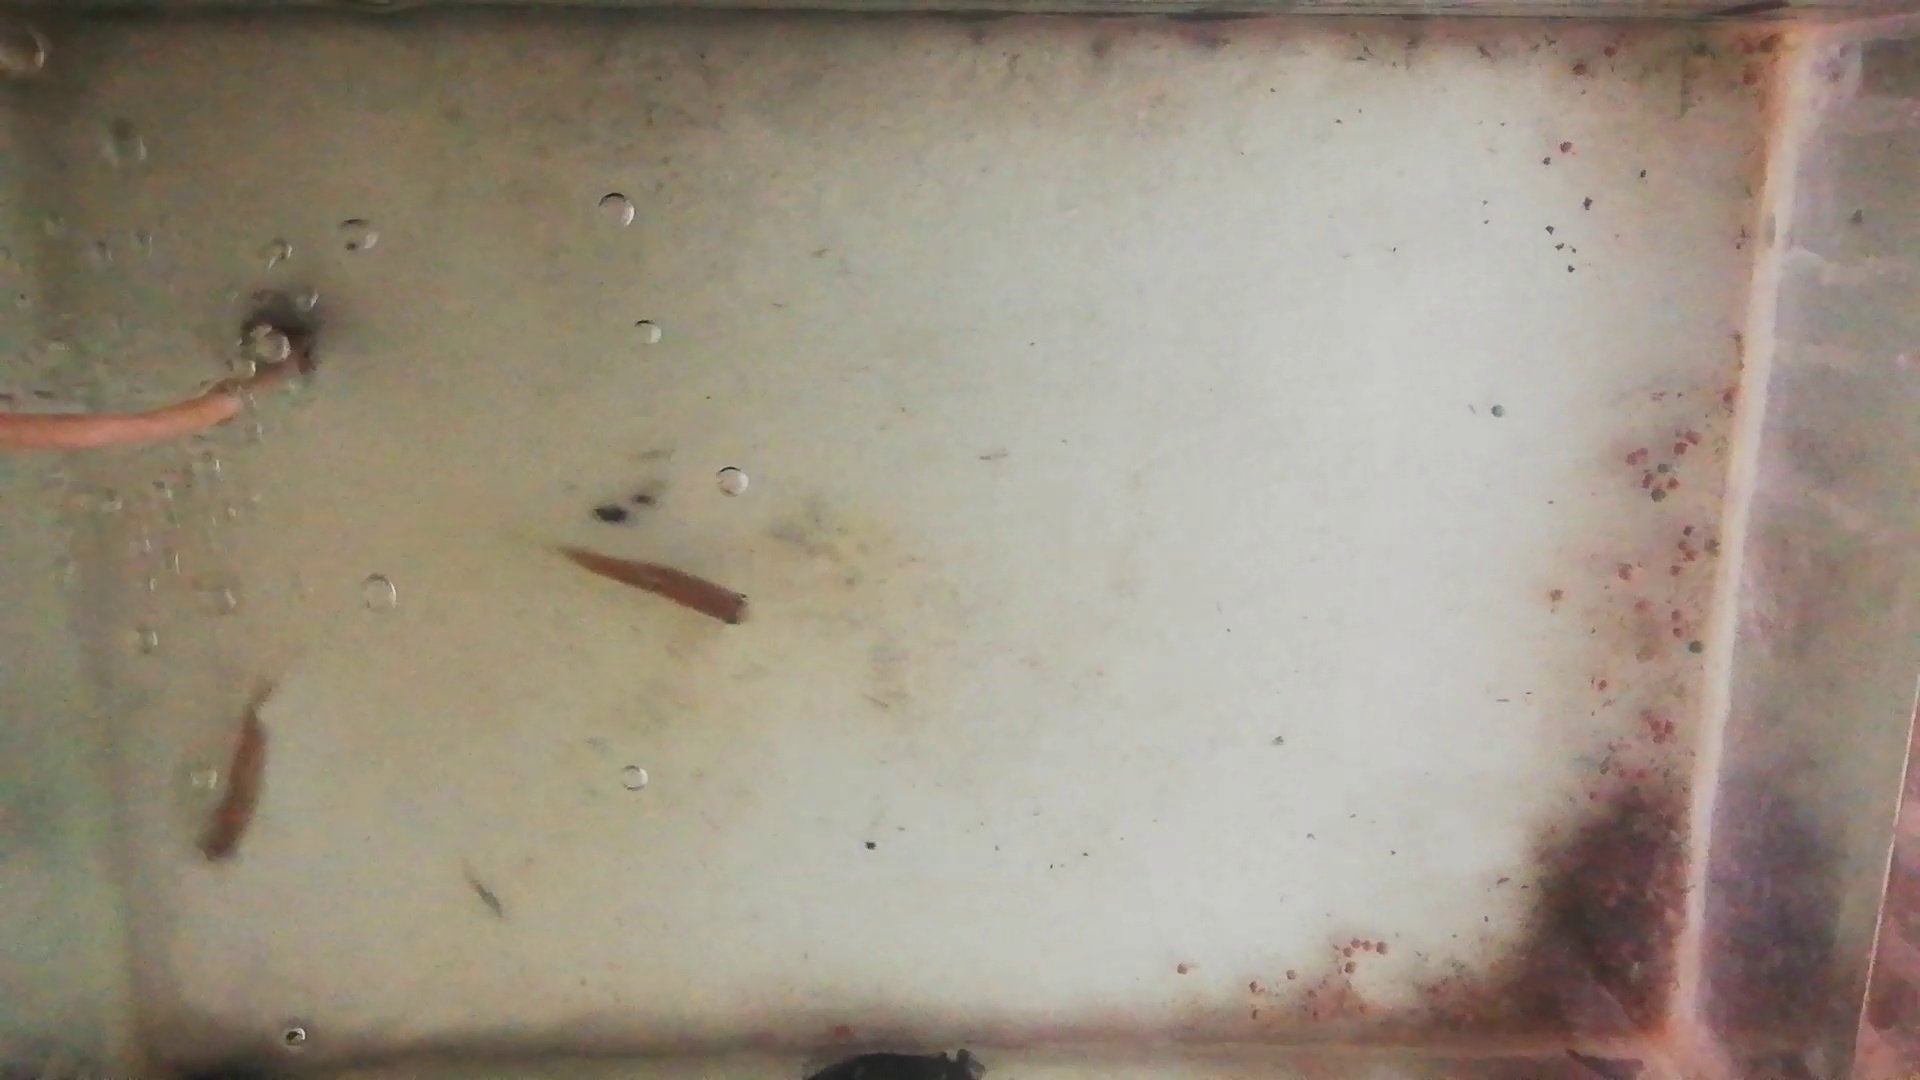fish: (553, 546, 750, 629), (193, 680, 273, 862)
